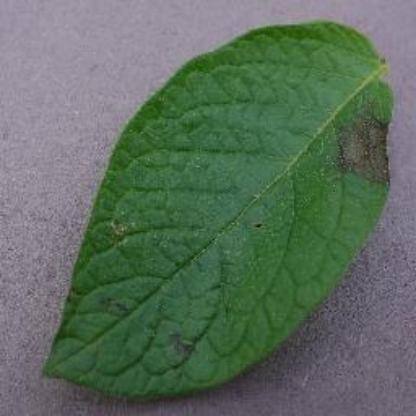Late-Blight: (47, 18, 399, 406)
